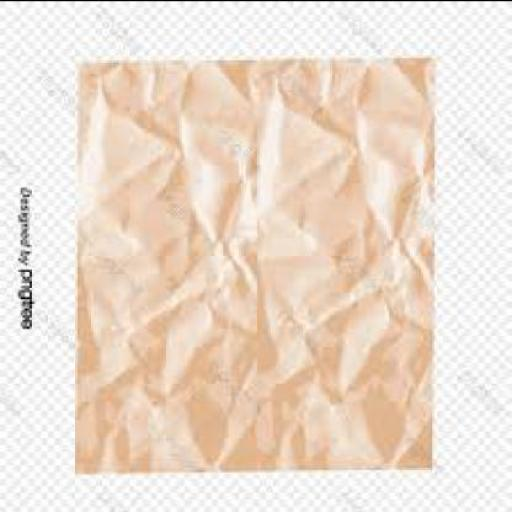paper: (78, 52, 440, 471)
